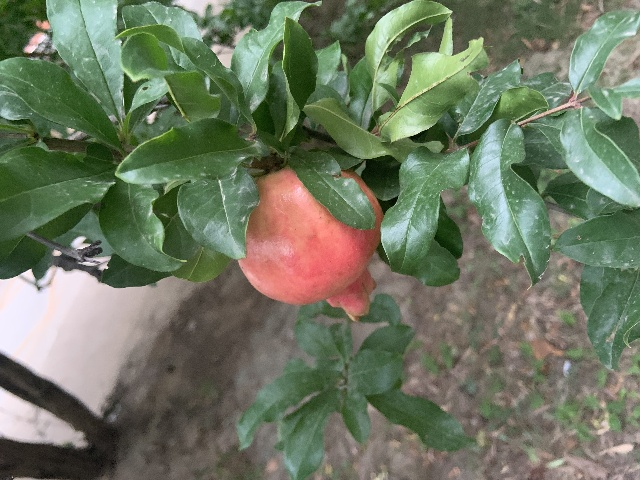ripe: (238, 166, 383, 322)
